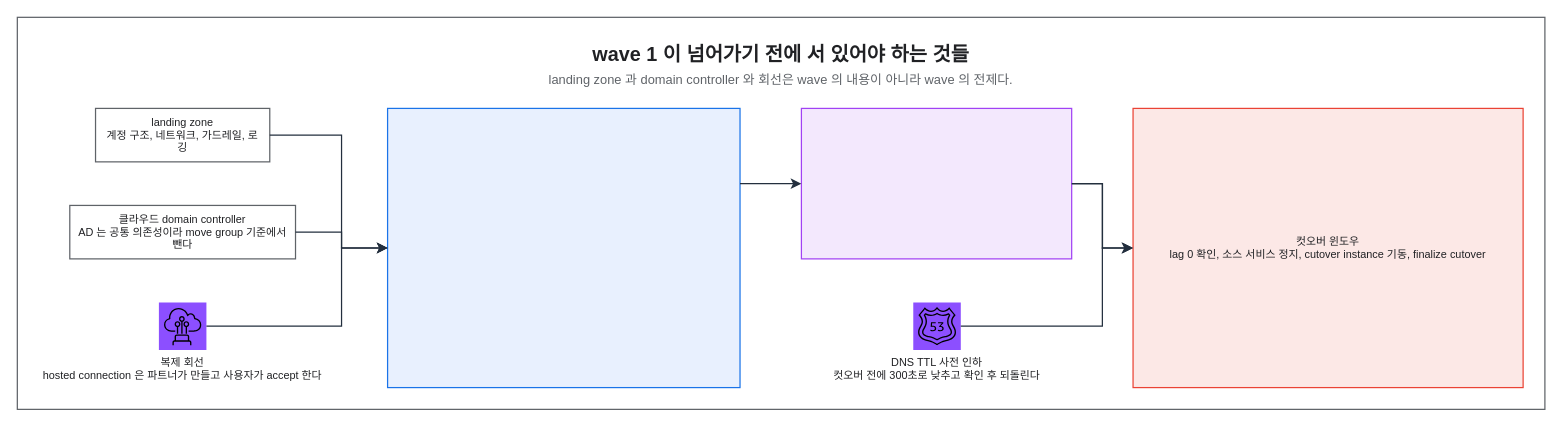
The diagram is 1563 pixels wide and 428 high, and some of its shapes have lost their labels. The box of each missing label's shape, as (x1, y1, x2, y2) in pixels:
wave plan move group 을 wave 로 묶는다. 초기 wave 10대 미만, wave 상한 50대: (386, 107, 740, 388)
wave 실행 MGN 연속 복제와 DMS full load + CDC 가 동시에 돈다: (800, 107, 1072, 259)
